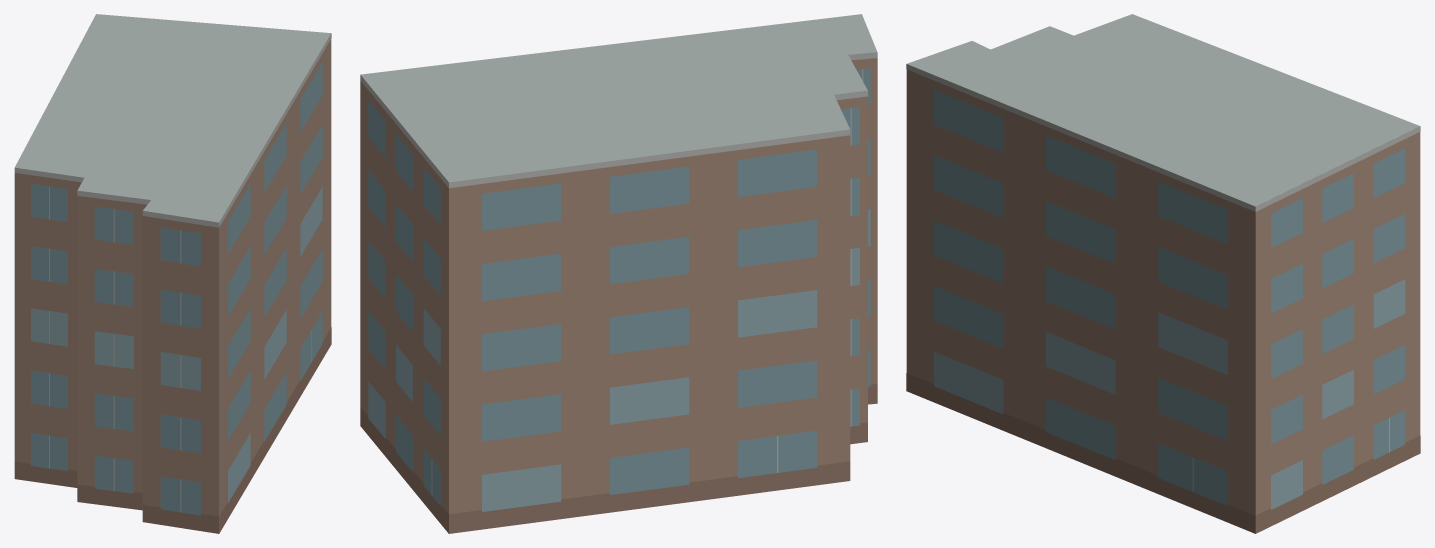
The model's file is survey-upis-32779372.glb.
3 renders of one model, left to right at view 1: azimuth 30°, elevation 25°; view 2: azimuth 150°, elevation 25°; view 3: azimuth 270°, elevation 25°, orthographic. The views are drawn at different scales.
Visible parts, largest first — view 1: survey-upis-32779372.tmp; view 2: survey-upis-32779372.tmp; view 3: survey-upis-32779372.tmp.
Boxes of the visible parts, left/top/right/bottom form: survey-upis-32779372.tmp: left=14, top=14, right=331, bottom=533; survey-upis-32779372.tmp: left=360, top=14, right=877, bottom=533; survey-upis-32779372.tmp: left=906, top=14, right=1420, bottom=533.
Bounding box in the file's own units: 18.75 × 14.85 × 21.14.
